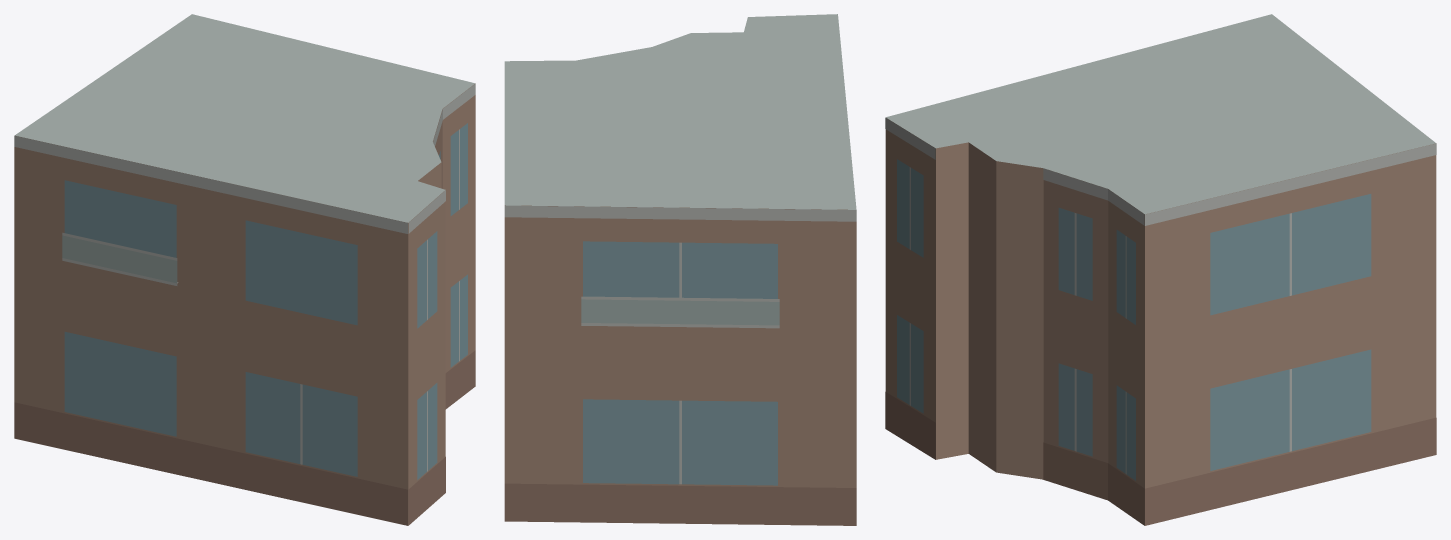
The model's file is survey-upis-32921801.glb.
3 views of the same model, side by side, from view 1: azimuth 30°, elevation 25°; view 2: azimuth 150°, elevation 25°; view 3: azimuth 270°, elevation 25° (orthographic). The views are drawn at different scales.
Visible parts, largest first — view 1: survey-upis-32921801.tmp; view 2: survey-upis-32921801.tmp; view 3: survey-upis-32921801.tmp.
Boxes of the visible parts, bbox=[...] form: survey-upis-32921801.tmp: bbox=[14, 14, 475, 525]; survey-upis-32921801.tmp: bbox=[504, 14, 856, 525]; survey-upis-32921801.tmp: bbox=[885, 14, 1436, 525].
Size of the model in its own units: 8.97 by 6.5 by 10.43.
